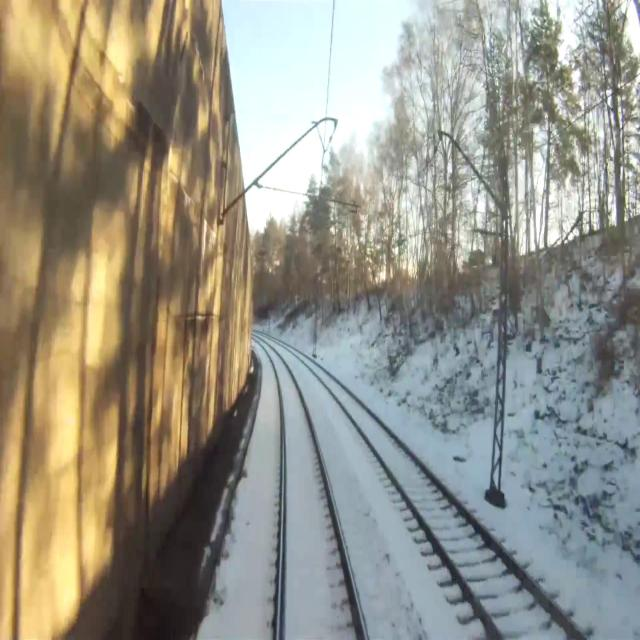rail-track: (299, 354, 582, 639), (261, 341, 363, 639)
